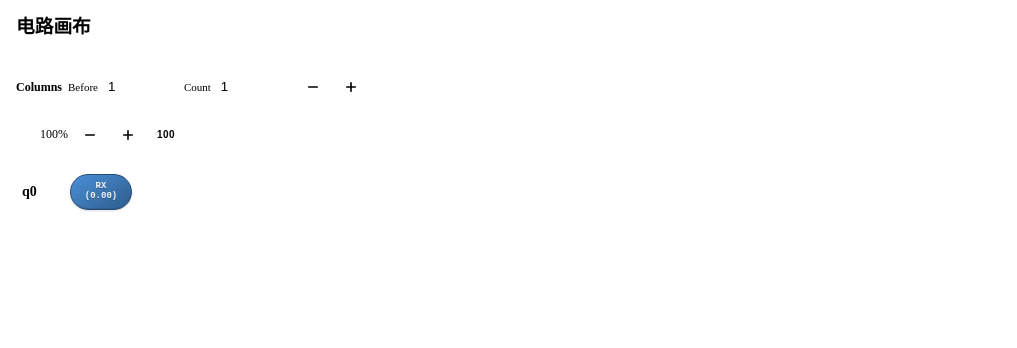
Scenario: CircuitCanvas › shows inline parameter editor for selected parameterized gate
What coordinates should you click on to do the following:
click the element with test id "canvas-cell-0-0"
I would click on:
 (101, 192)
Its box is [70,174,132,210].
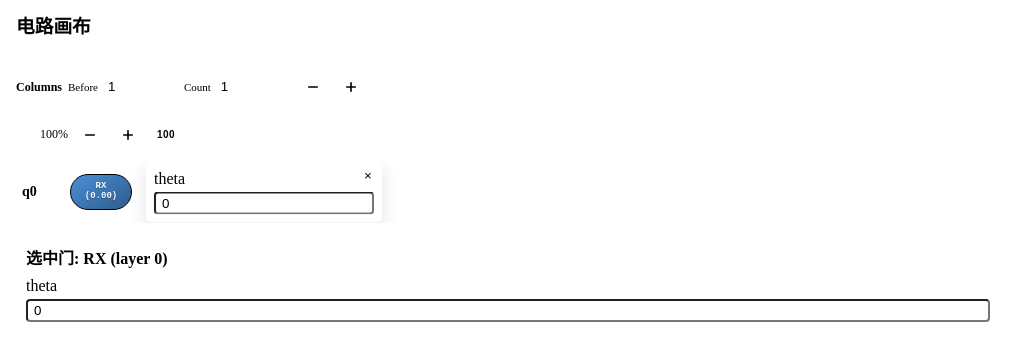
Check: the element with test id "inline-operation-params-panel" is shown, box [154,169,374,214]
Check: the element with test id "operation-params-panel" is shown, box [16,235,1000,332]
